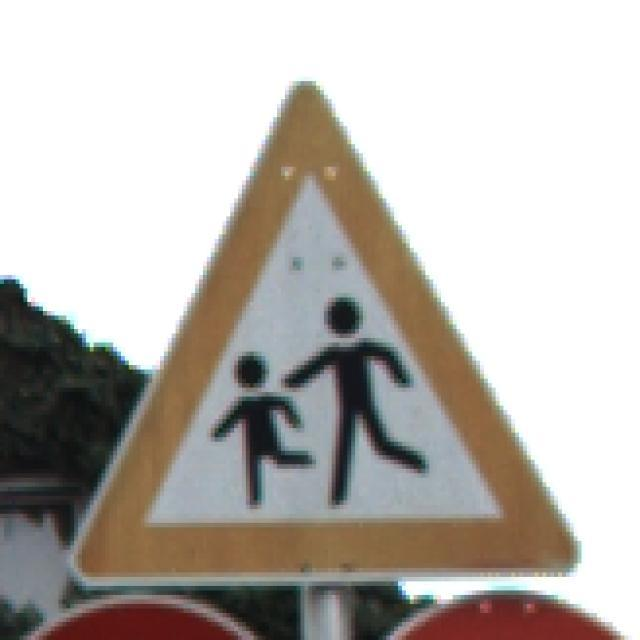school ahead: (75, 80, 586, 579)
